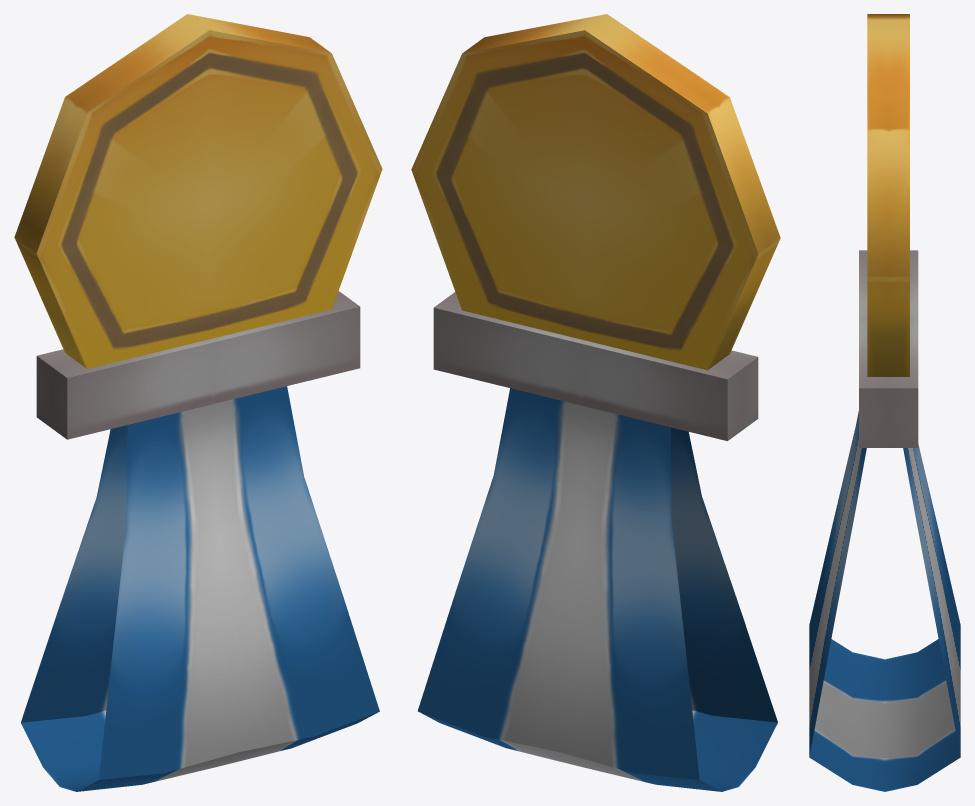
File: medalB.FBX
3 views of the same model, side by side, from view 1: azimuth 30°, elevation 25°; view 2: azimuth 150°, elevation 25°; view 3: azimuth 270°, elevation 25° (orthographic). The views are drawn at different scales.
Parts seen in each view (by area): view 1: Object003; view 2: Object003; view 3: Object003.
Boxes of the visible parts, box(x1,y1,x2,y2) form: Object003: box(14, 14, 382, 791); Object003: box(411, 14, 780, 791); Object003: box(809, 14, 960, 791).
Bounding box in the file's own units: 13.93 × 28.27 × 5.45.
1 material, 1 textured.
